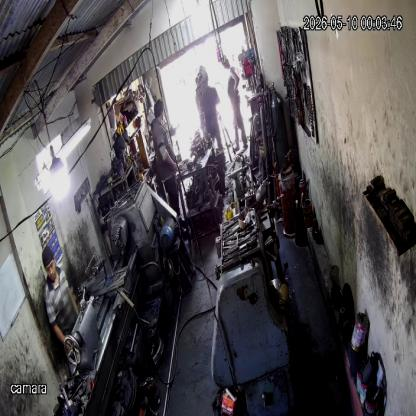sin_lentes: (42, 263, 56, 273)
